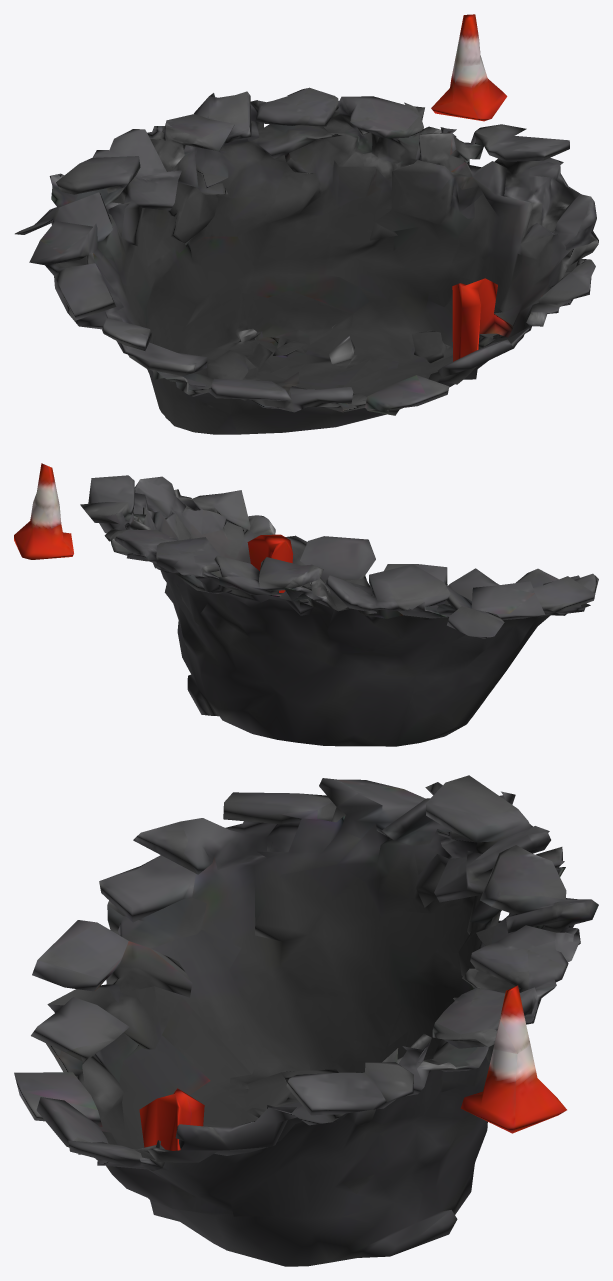
File: crater.glb
3 renders of one model, top to bottom at view 1: azimuth 30°, elevation 25°; view 2: azimuth 150°, elevation 25°; view 3: azimuth 270°, elevation 25°, orthographic. The views are drawn at different scales.
Parts seen in each view (by area): view 1: tripo_node_1338225a-a13f-4c2a-b5a6-1aa4c5f536a3; view 2: tripo_node_1338225a-a13f-4c2a-b5a6-1aa4c5f536a3; view 3: tripo_node_1338225a-a13f-4c2a-b5a6-1aa4c5f536a3.
Boxes of the visible parts, x1,y1,x2,y2 form: tripo_node_1338225a-a13f-4c2a-b5a6-1aa4c5f536a3: [15, 14, 598, 434]; tripo_node_1338225a-a13f-4c2a-b5a6-1aa4c5f536a3: [14, 463, 598, 746]; tripo_node_1338225a-a13f-4c2a-b5a6-1aa4c5f536a3: [14, 775, 598, 1266].
Size of the model in its own units: 0.9799 by 0.4574 by 0.6962.
1 material, 1 textured.
